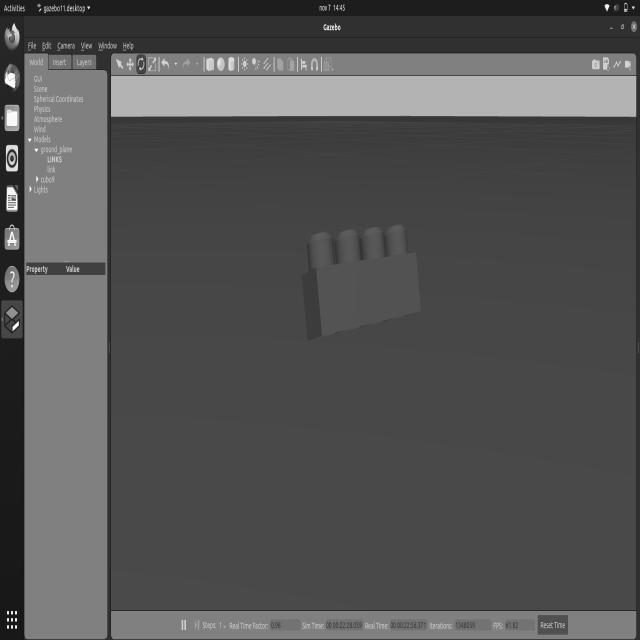block9: (302, 224, 422, 341)
